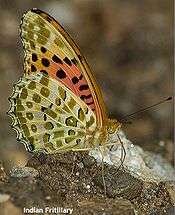Argyreus hyperbius: (3, 4, 173, 179)
butterfly: (5, 6, 175, 181)
